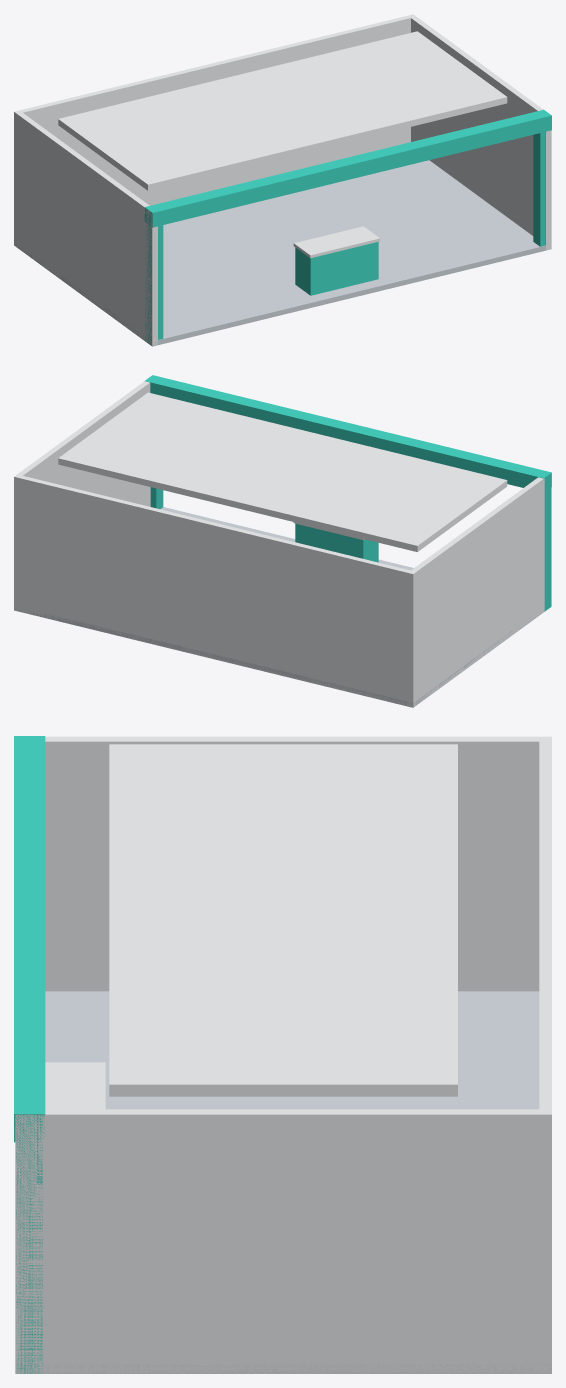
The picture shows the model from 3 angles, top to bottom: view 1: azimuth 30°, elevation 25°; view 2: azimuth 150°, elevation 25°; view 3: azimuth 270°, elevation 25°; orthographic projection. The views are drawn at different scales.
Visible parts, largest first — view 1: Exhibition Booth Concept; view 2: Exhibition Booth Concept; view 3: Exhibition Booth Concept.
Boxes of the visible parts, x1,y1,x2,y2 form: Exhibition Booth Concept: [14, 14, 551, 346]; Exhibition Booth Concept: [14, 375, 551, 707]; Exhibition Booth Concept: [14, 736, 551, 1373].
Size of the model in its own units: 10 by 3.34 by 6.02.
